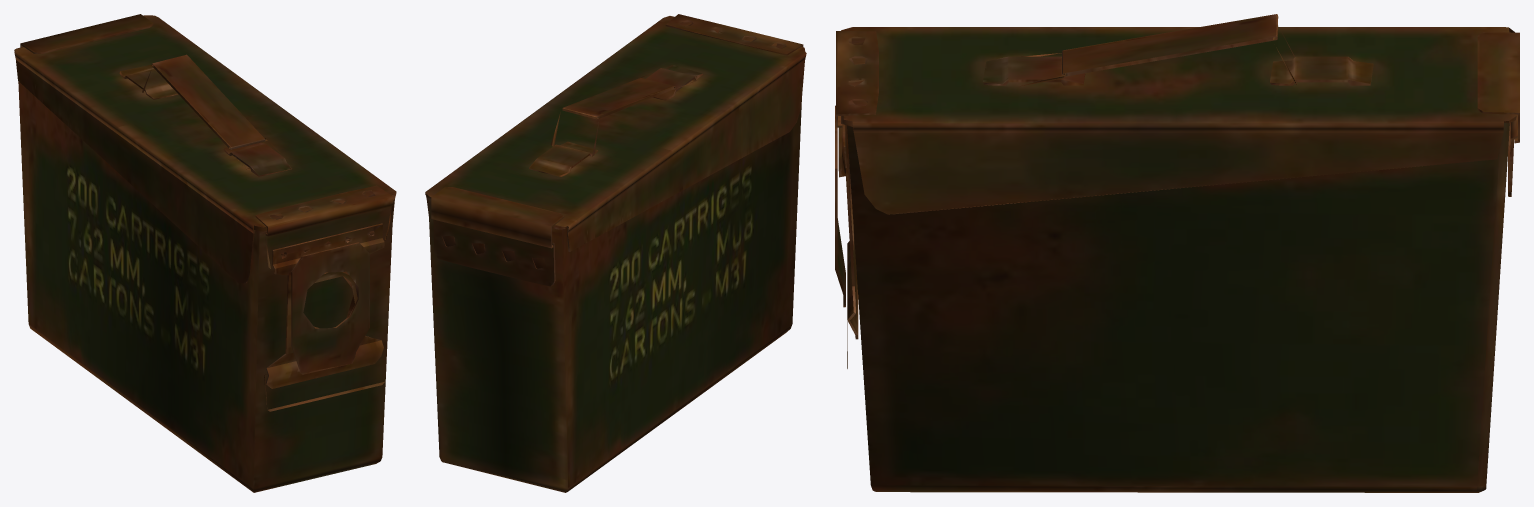
File: ammo-can.glb
3 views of the same model, side by side, from view 1: azimuth 30°, elevation 25°; view 2: azimuth 150°, elevation 25°; view 3: azimuth 270°, elevation 25° (orthographic). The views are drawn at different scales.
Visible parts, largest first — view 1: ammo_box_handle_ring_b; view 2: ammo_box_handle_ring_b; view 3: ammo_box_handle_ring_b.
Boxes of the visible parts, bbox=[...] form: ammo_box_handle_ring_b: bbox=[14, 14, 396, 492]; ammo_box_handle_ring_b: bbox=[425, 14, 806, 492]; ammo_box_handle_ring_b: bbox=[835, 14, 1519, 492].
Size of the model in its own units: 0.1068 by 0.2216 by 0.322.
1 material, 1 textured.
